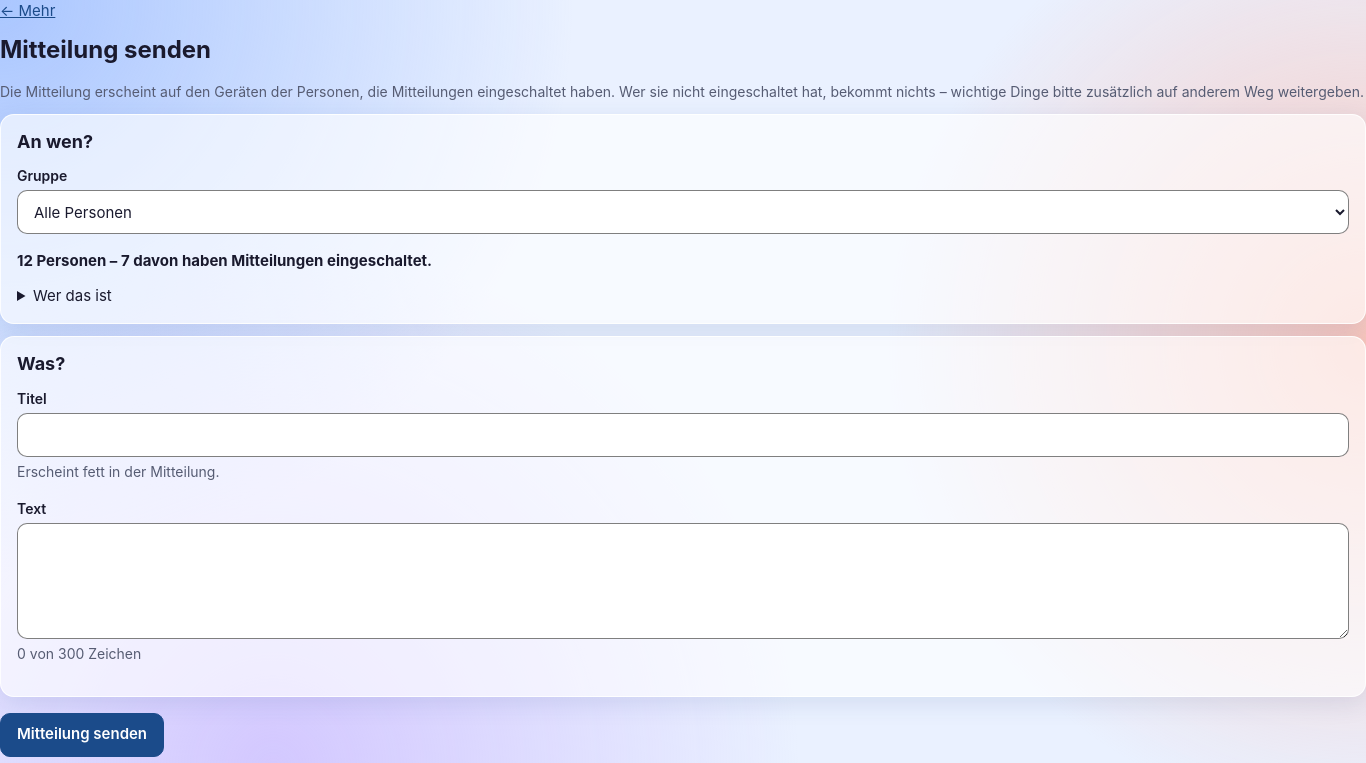
Scenario: Mitteilung senden (Koordination) › prüft Titel und Text vor dem Senden
Expected: the text "12 Personen – 7 davon haben Mitteilungen eingeschaltet." is shown, top-left (17, 251), bottom-right (432, 270)
Click the button "Mitteilung senden" at (82, 734), box top-left (0, 712), bottom-right (164, 756)
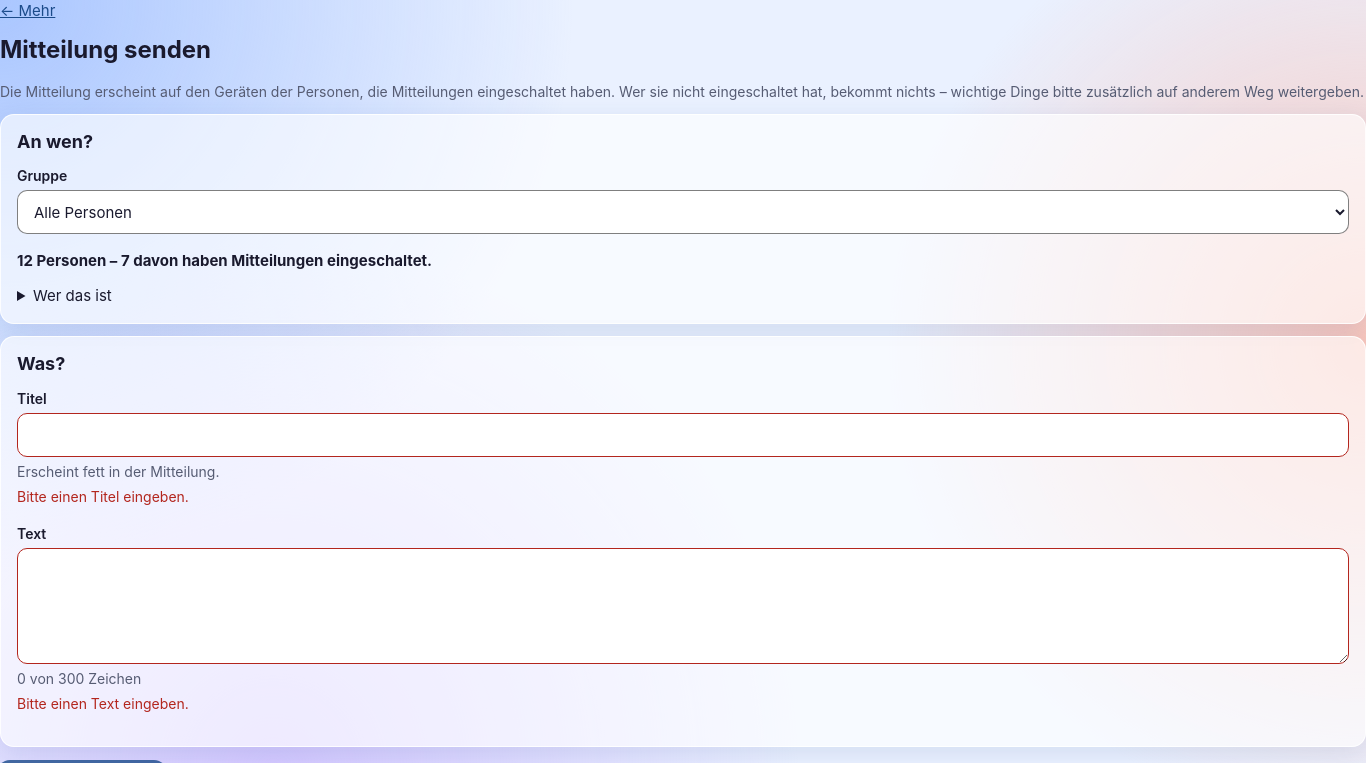
Expected: the text "Bitte einen Titel eingeben." is shown, top-left (17, 488), bottom-right (189, 504)
Expected: the text "Bitte einen Text eingeben." is shown, top-left (17, 694), bottom-right (189, 712)
